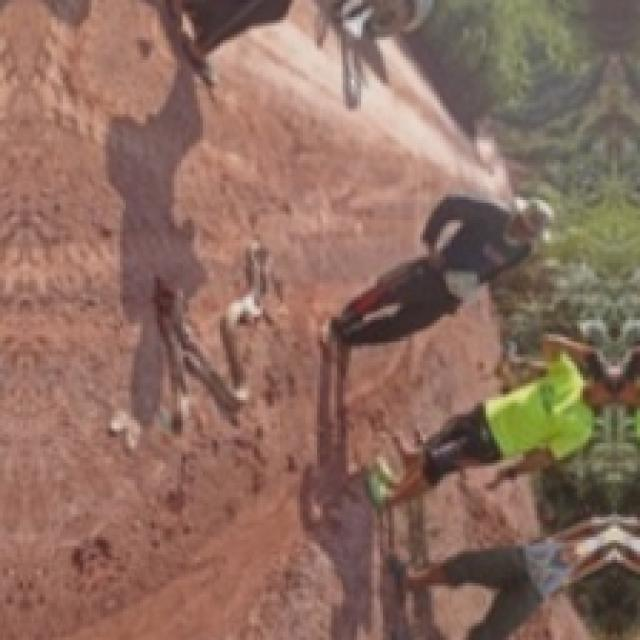king cobra: (156, 241, 269, 422)
